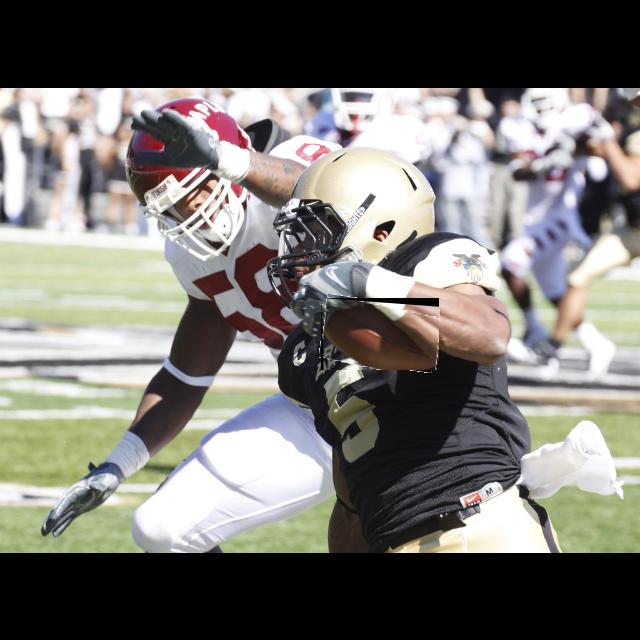Football: (321, 298, 439, 370)
